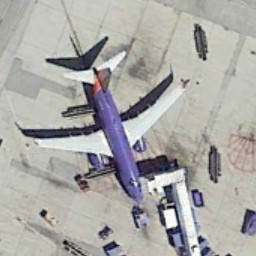Airplane: (12, 46, 201, 210)
